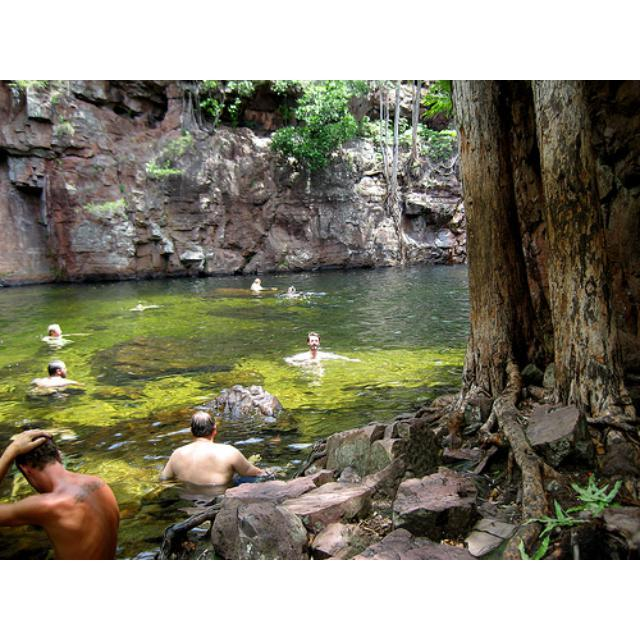human: (1, 427, 121, 560), (156, 411, 250, 490), (285, 330, 329, 369), (37, 358, 71, 384), (45, 324, 69, 345), (252, 277, 264, 292), (285, 285, 299, 295)
